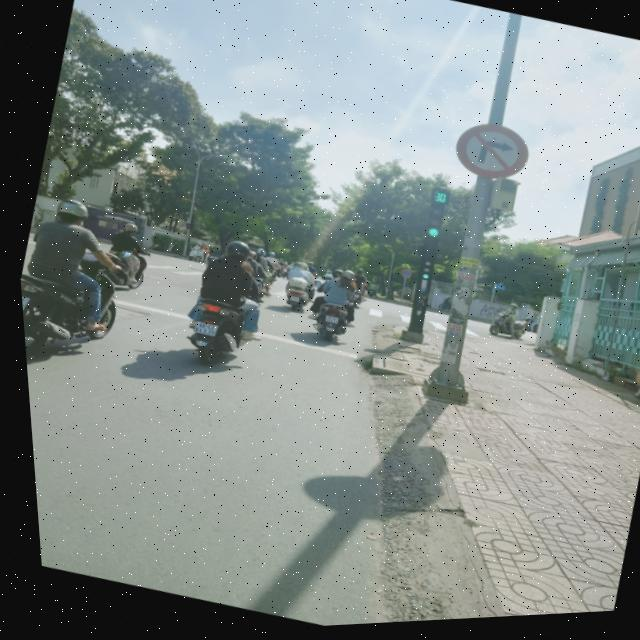Green: (412, 204, 453, 250), (405, 256, 439, 288)
